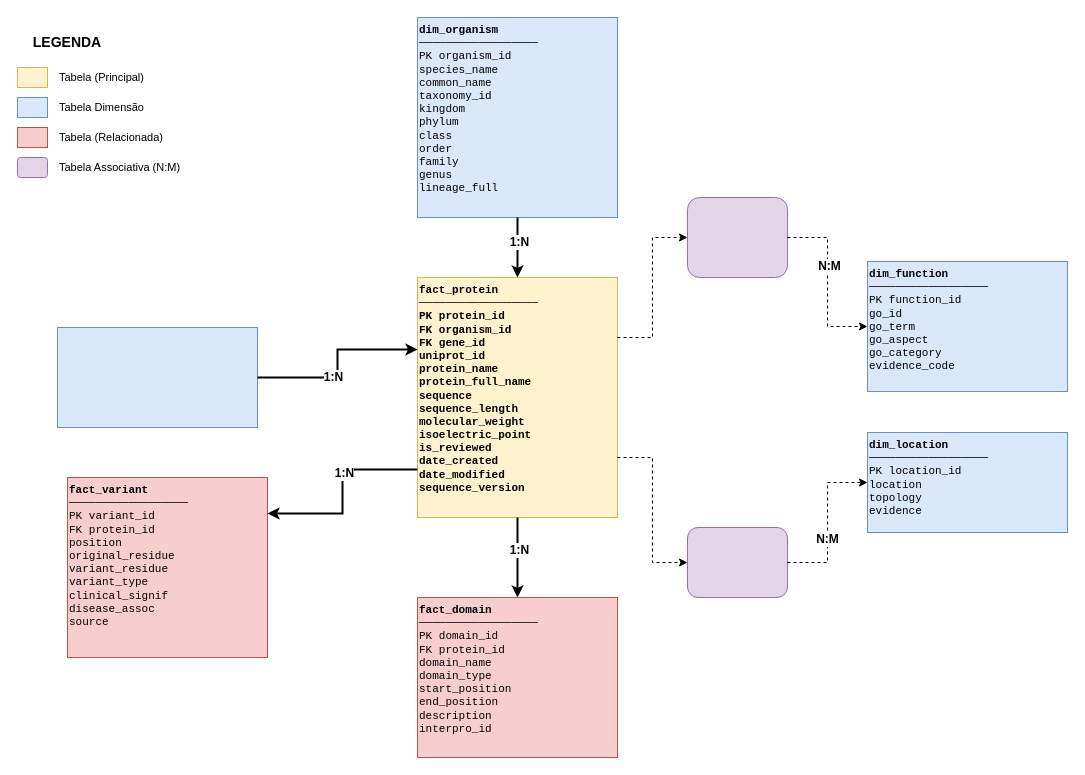
The diagram is 1085 pixels wide and 775 high, and some of its shapes have lost their labels. Each missing label, with the centre of its shape:
dim_gene ────────────────── PK gene_id gene_name gene_type synonyms: point 157,377
protein_function PK protein_id PK function_id evidence_type: point 737,237
protein_location PK protein_id PK location_id: point 737,562
